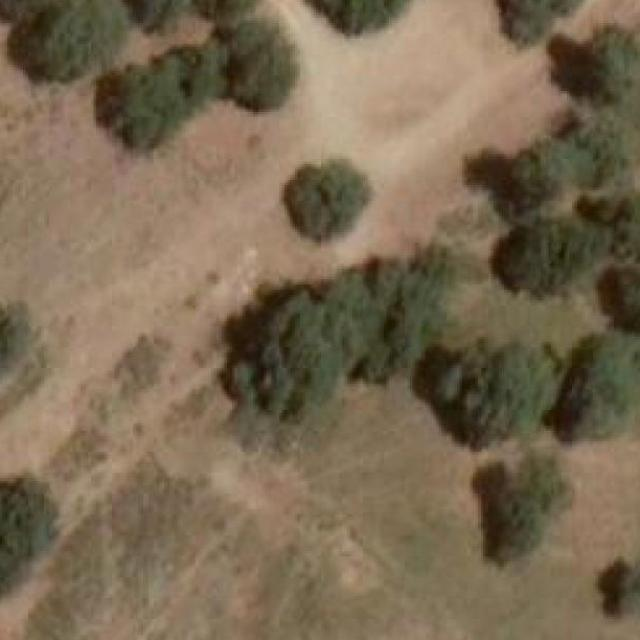Tree: (345, 237, 455, 387), (225, 290, 343, 424), (424, 342, 549, 452), (556, 328, 640, 442), (472, 454, 564, 556), (104, 49, 195, 143), (23, 0, 122, 81), (497, 216, 601, 293), (476, 138, 575, 209), (220, 26, 298, 105), (580, 23, 640, 105), (286, 164, 358, 232), (0, 486, 44, 596), (590, 185, 640, 255), (493, 0, 582, 36), (610, 263, 640, 354), (318, 0, 415, 25), (605, 556, 640, 617), (127, 0, 195, 31), (0, 307, 28, 378), (199, 0, 251, 18)
